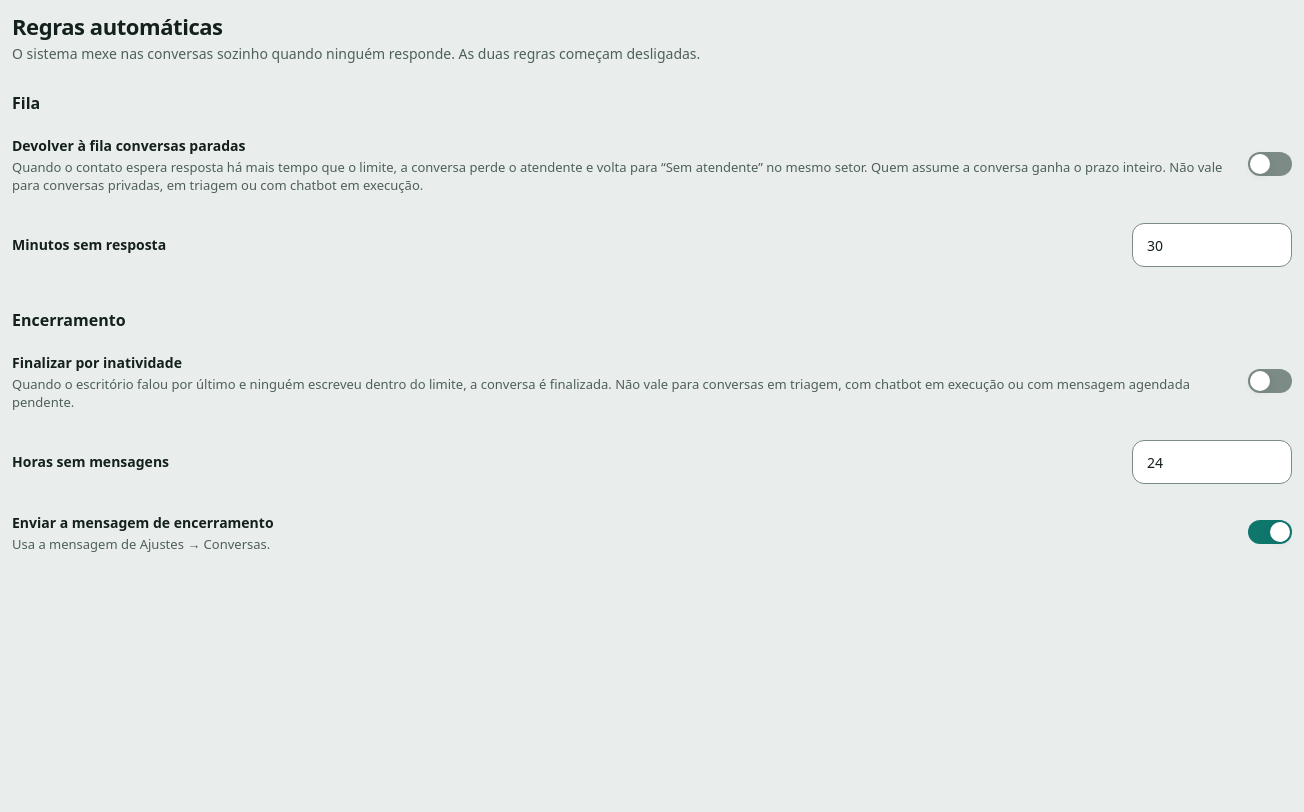
Test: loads both rules off and saves both with their values (spec 2026-10-20 agendamentos §4)
Expected: the heading "Regras automáticas" is shown, [12,11,223,41]
Expected: the button "Salvar" is not shown
Click the switch named "Devolver à fila conversas paradas" at (1270,164), box [1248,152,1292,176]
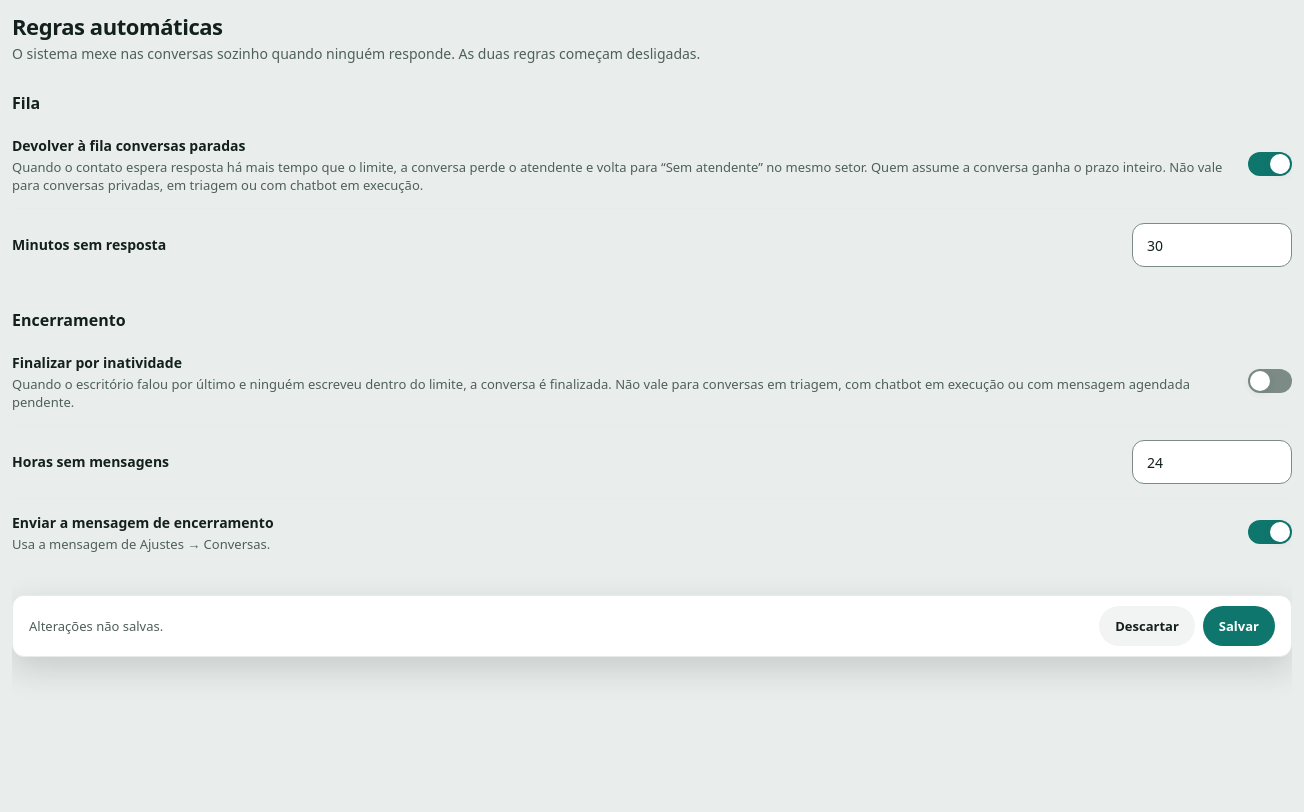
Replace the text in the number field labelled "Minutos sem resposta" with "45" at (1212,245), box [1132,223,1292,267]
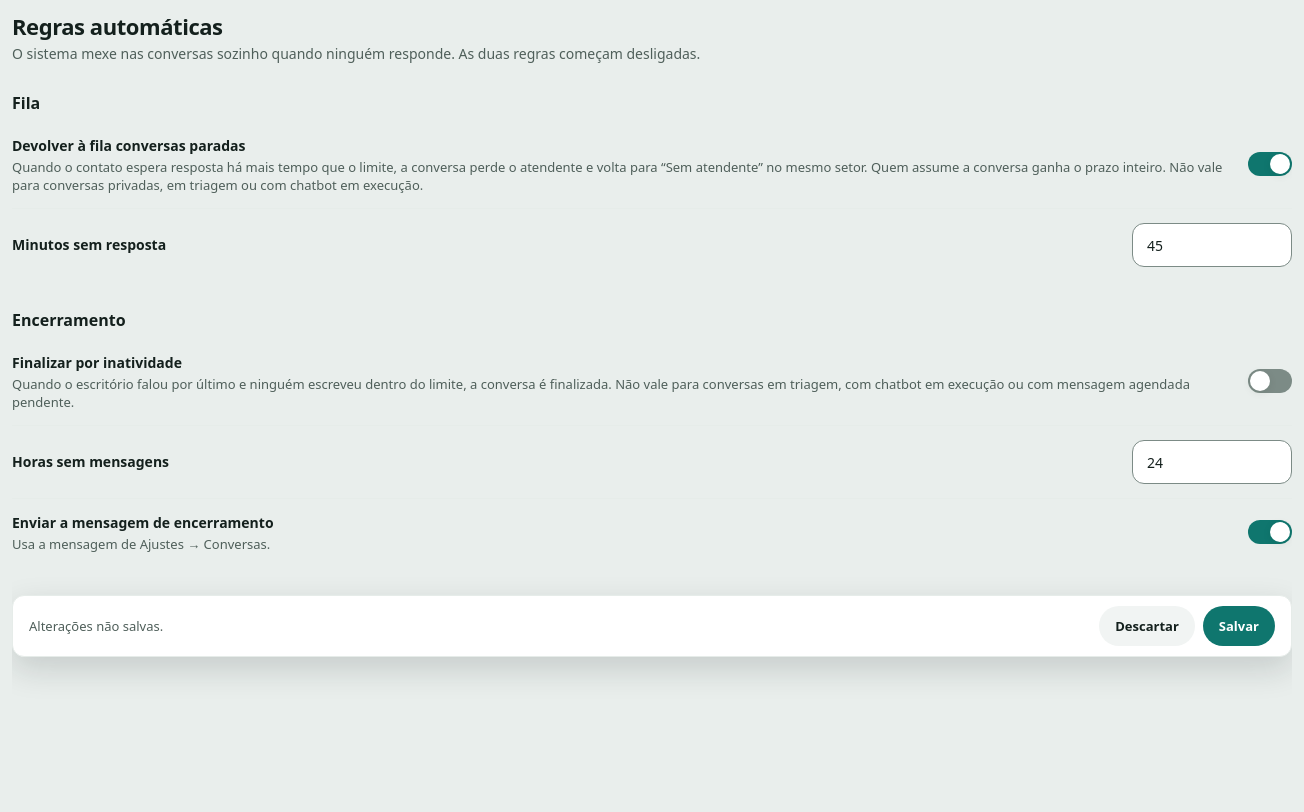
Click the switch named "Finalizar por inatividade" at (1270,380), box [1248,368,1292,392]
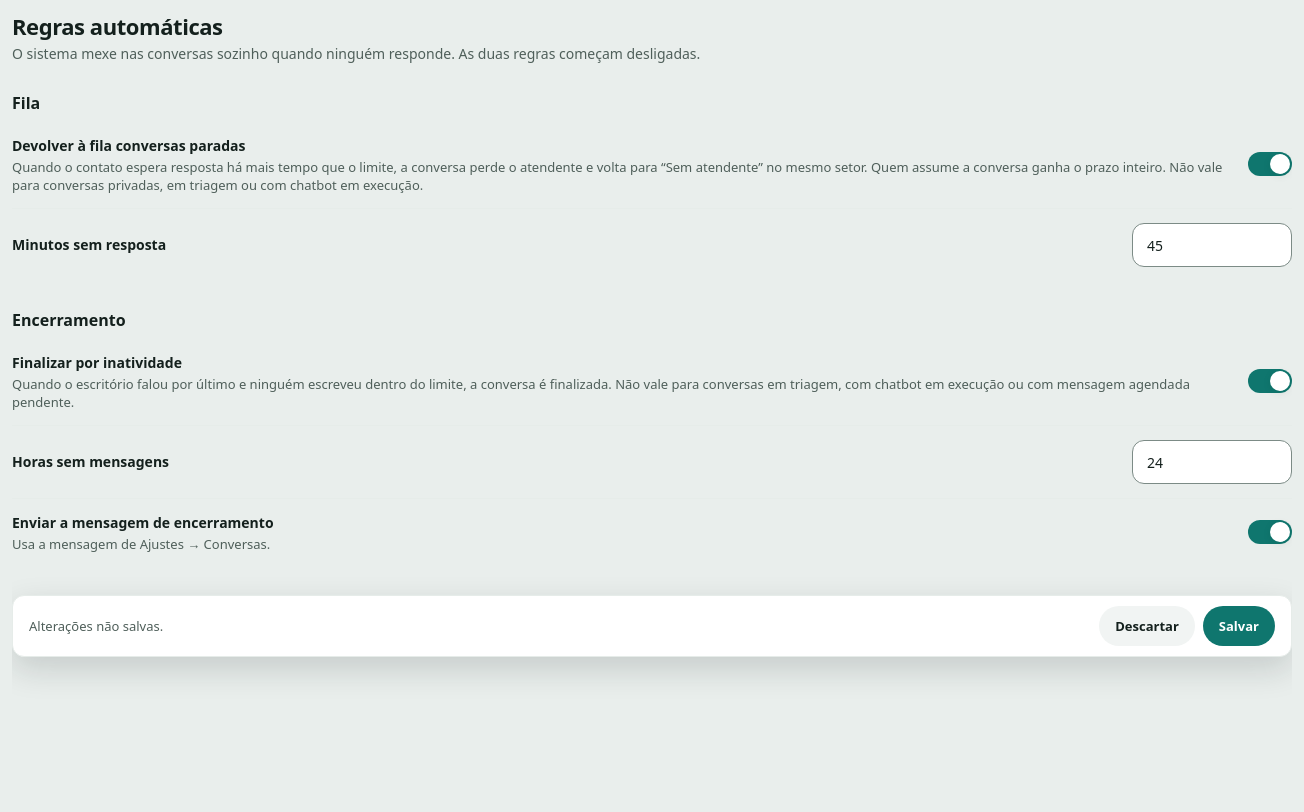
Replace the text in the number field labelled "Horas sem mensagens" with "48" at (1212,462), box [1132,440,1292,484]
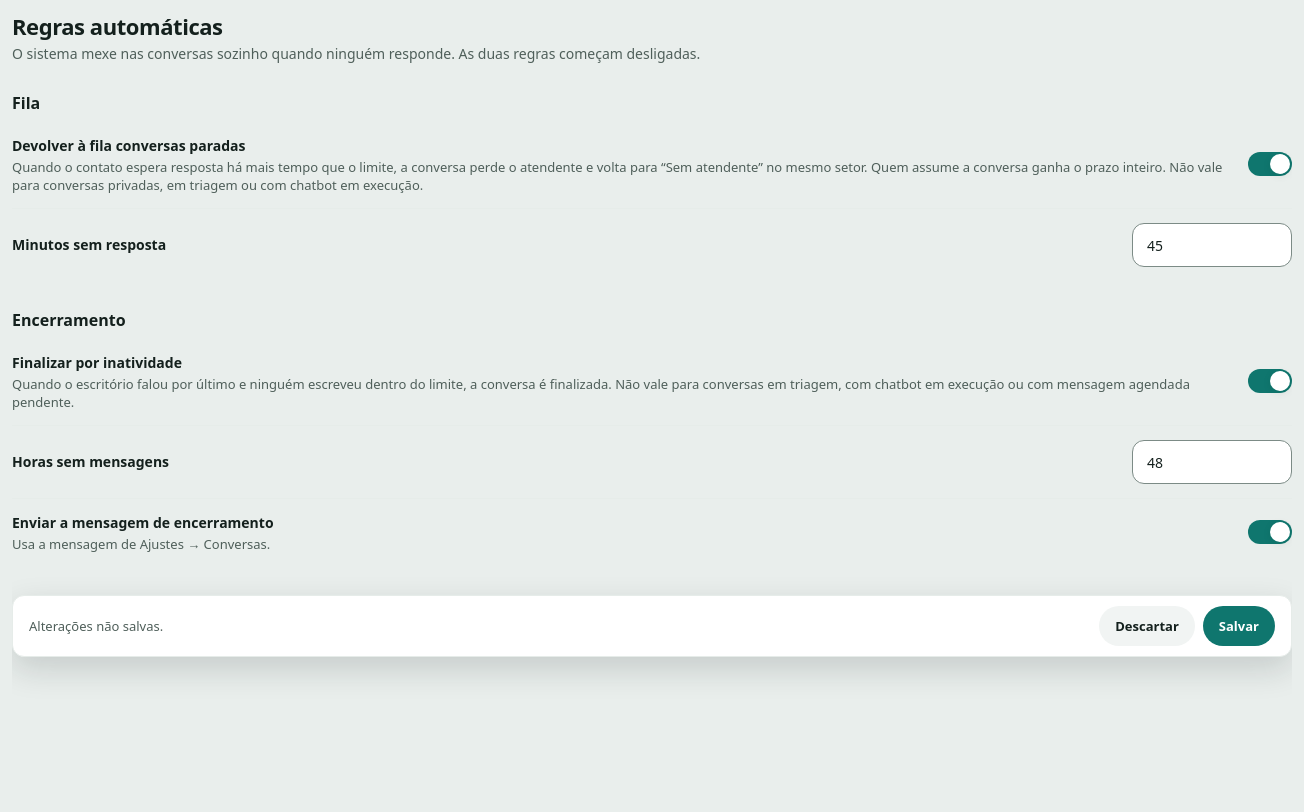
Click the switch named "Enviar a mensagem de encerramento" at (1270,532), box [1248,520,1292,544]
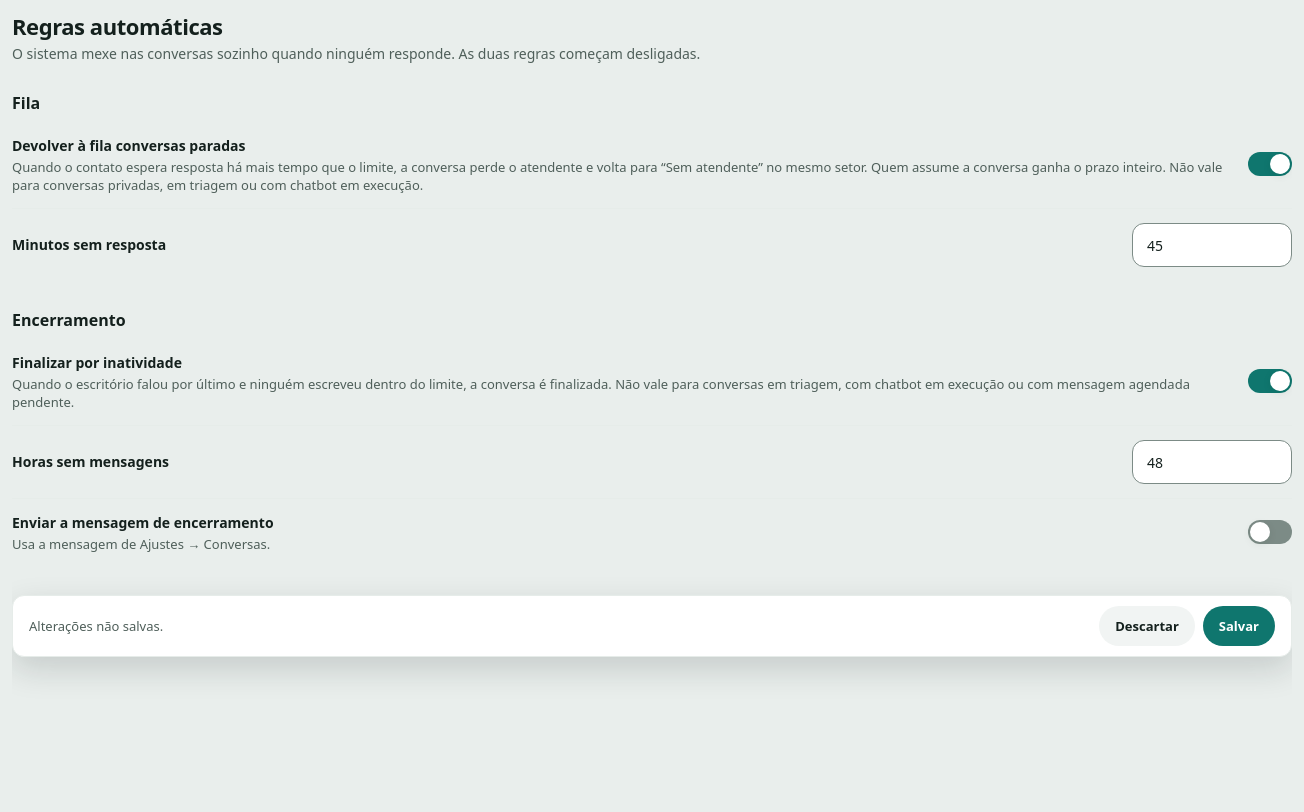
Click the button "Salvar" at (1239,626), box [1203,606,1275,646]
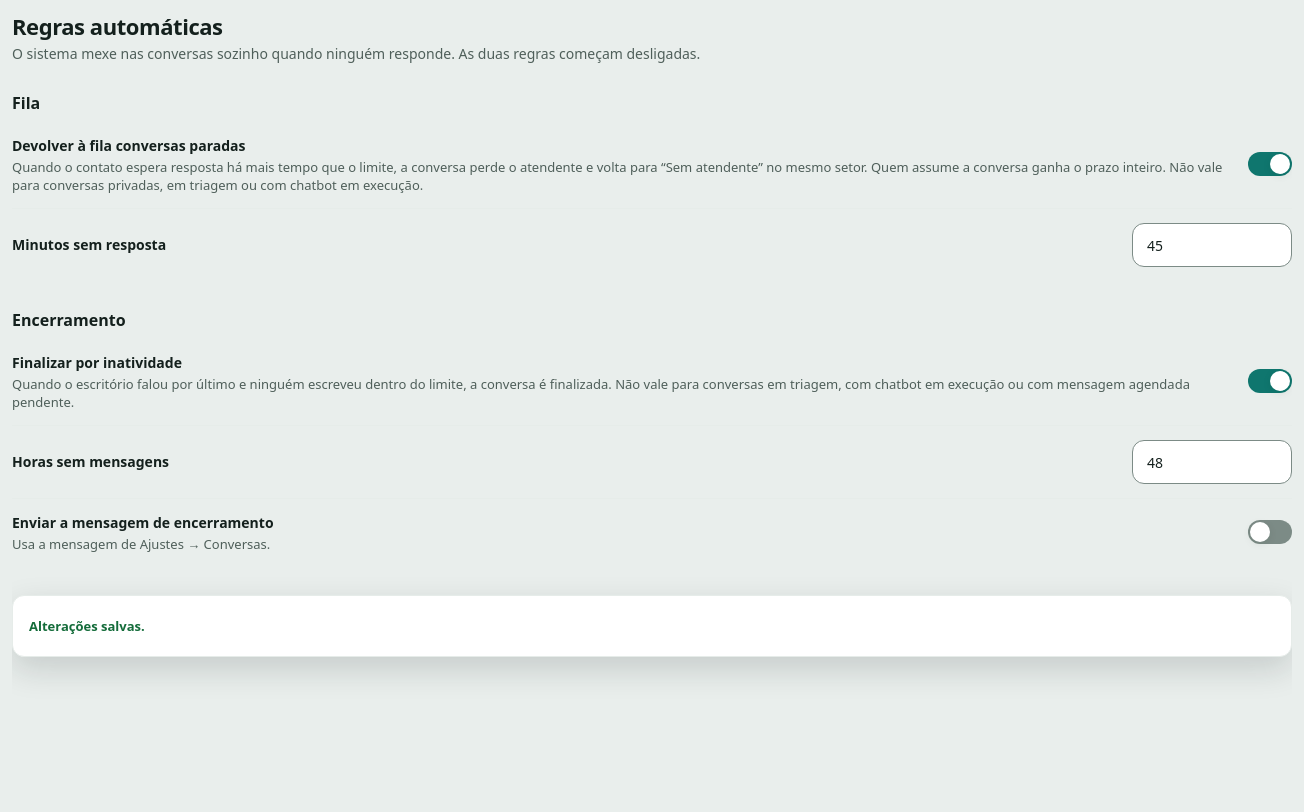
Expected: the text "Alterações salvas." is shown, [29,617,145,635]
